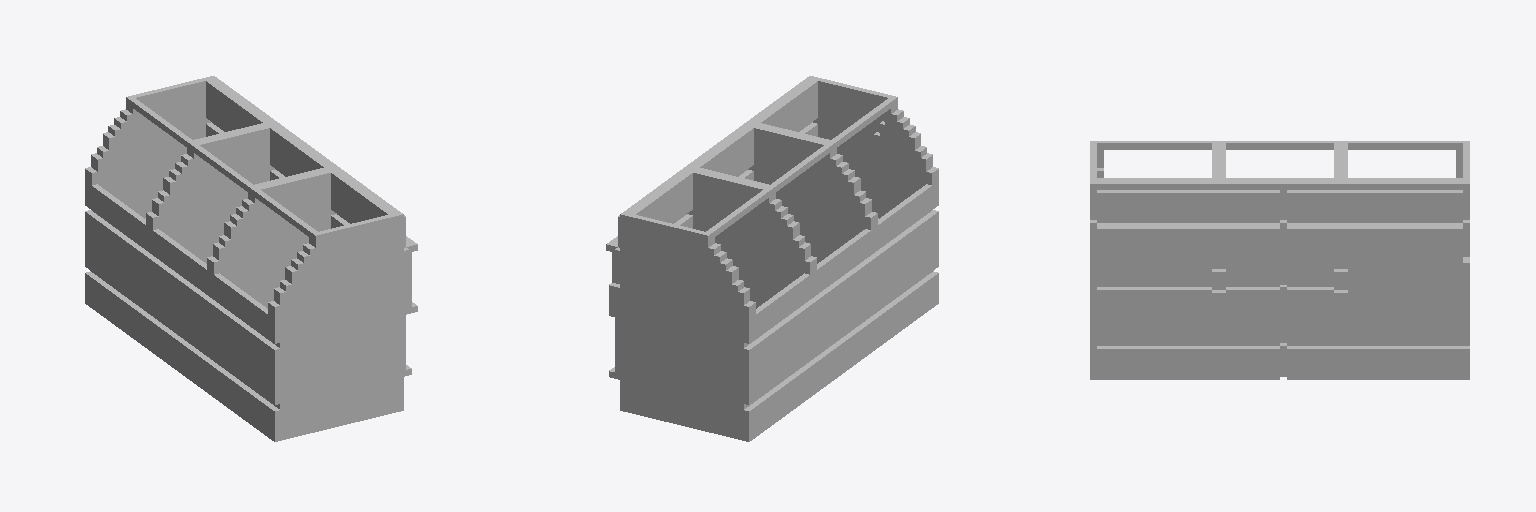
Rendered from SweetsCountainer2.obj.
The picture shows the model from 3 angles: view 1: azimuth 30°, elevation 25°; view 2: azimuth 150°, elevation 25°; view 3: azimuth 270°, elevation 25°; orthographic projection.
Visible parts, largest first — view 1: object 1; view 2: object 1; view 3: object 1.
Boxes of the visible parts, <box> form: object 1: <box>85,76,417,441</box>; object 1: <box>606,76,938,441</box>; object 1: <box>1090,141,1469,379</box>.
Size of the model in its own units: 2.6 by 3.2 by 5.6.